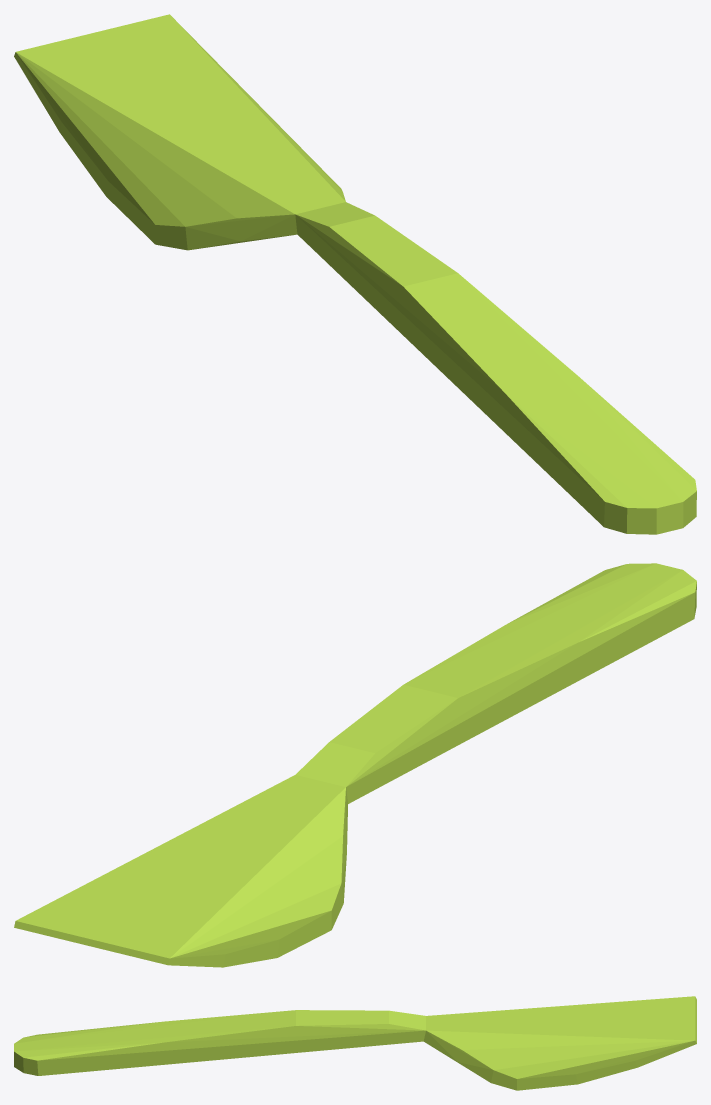
File: fork_convex.fbx
The picture shows the model from 3 angles, top to bottom: view 1: azimuth 30°, elevation 25°; view 2: azimuth 150°, elevation 25°; view 3: azimuth 270°, elevation 25°; orthographic projection. The views are drawn at different scales.
Visible parts, largest first — view 1: fork_convex.001, fork_convex; view 2: fork_convex.001, fork_convex; view 3: fork_convex.001, fork_convex.
Boxes of the visible parts, x1,y1,x2,y2 form: fork_convex.001: (14,14,345,250); fork_convex: (295,202,696,534); fork_convex.001: (14,775,347,967); fork_convex: (295,563,696,803); fork_convex.001: (423,996,696,1090); fork_convex: (14,1010,425,1075).
Bounding box in the file's own units: 0.9662 × 5.49 × 0.4265.
